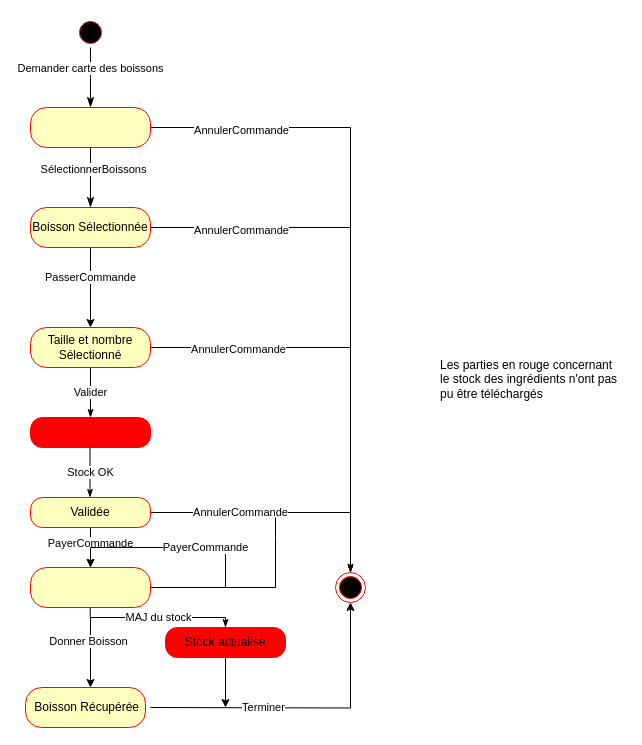
This 642x745 diagram has some shape labels left out. Each missing label, with the centre of its shape:
Consultée: the point at 90,127
Payée: the point at 90,587
Vérification du stock: the point at 90,432
